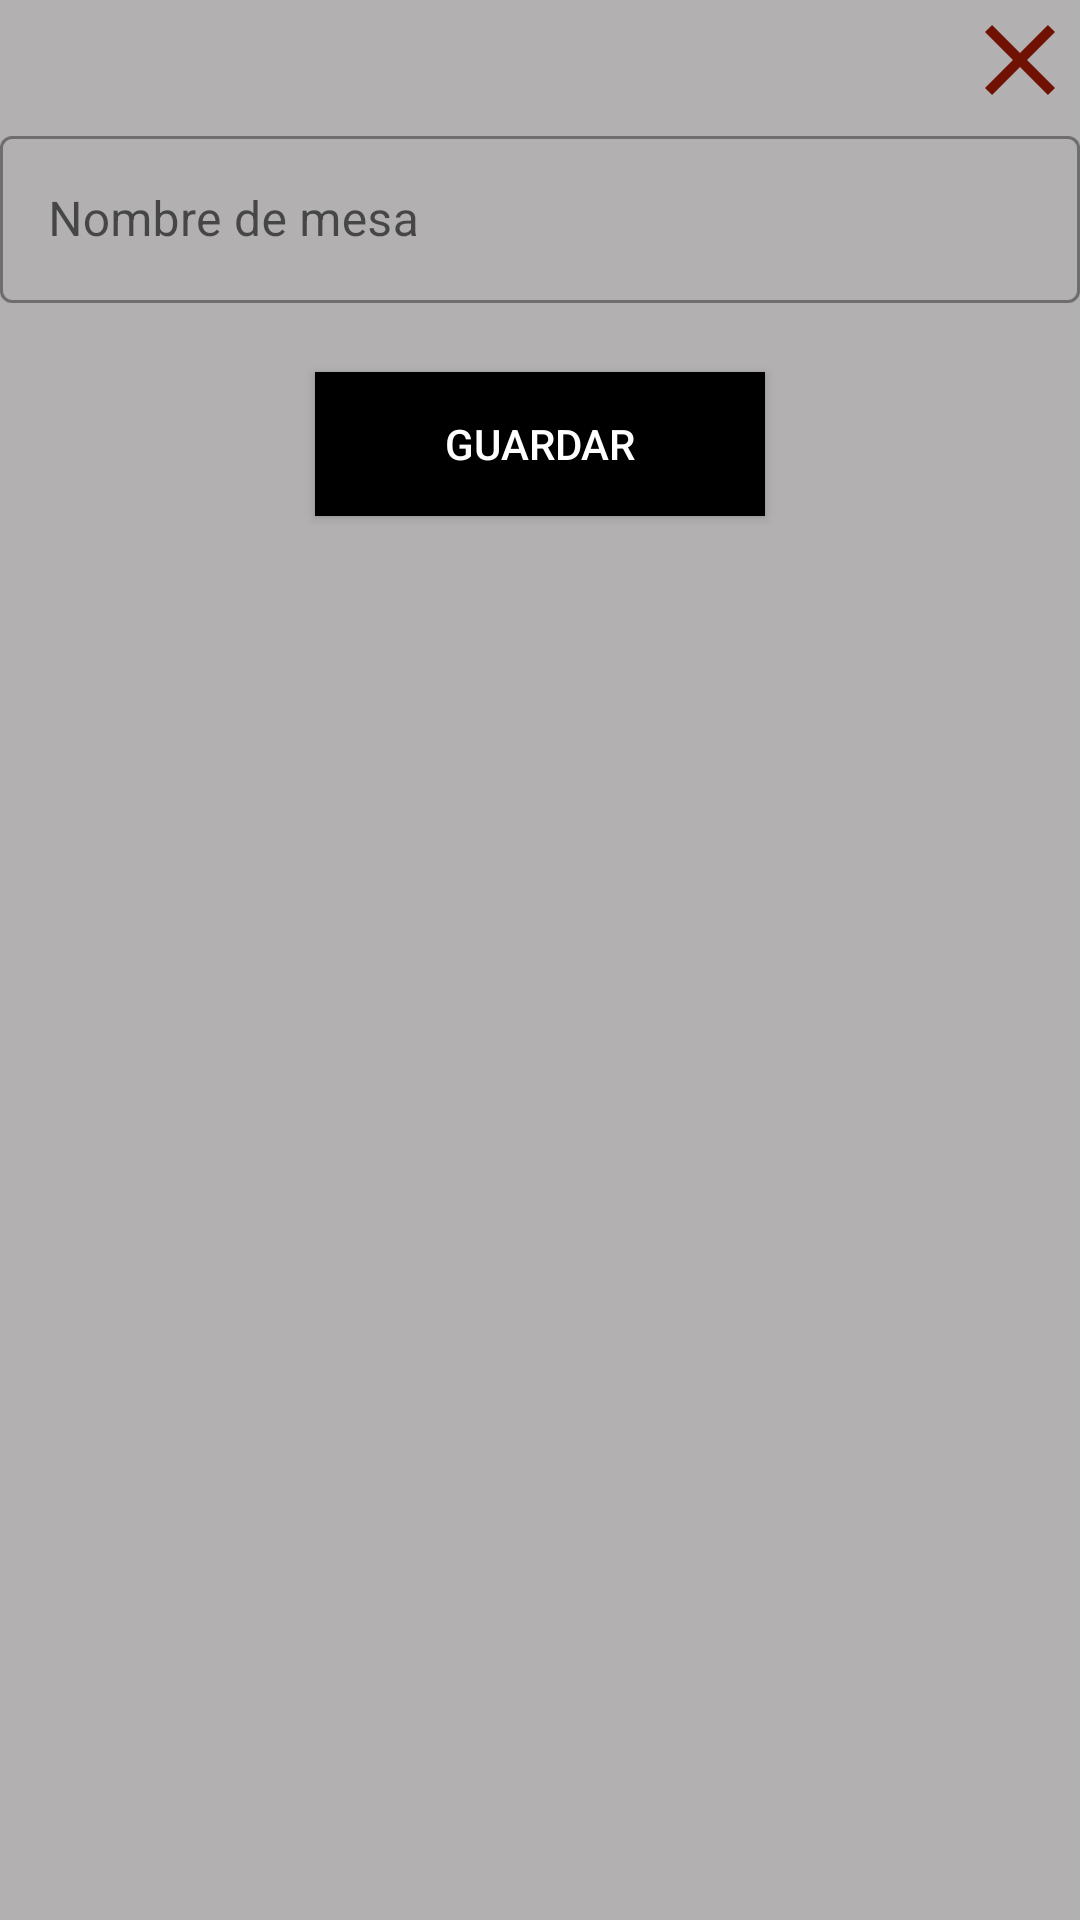

Icons on this 1080px×1920px Android screen, each with its box as rect(x1, y1, x2, y2):
close: rect(985, 25, 1055, 95)
